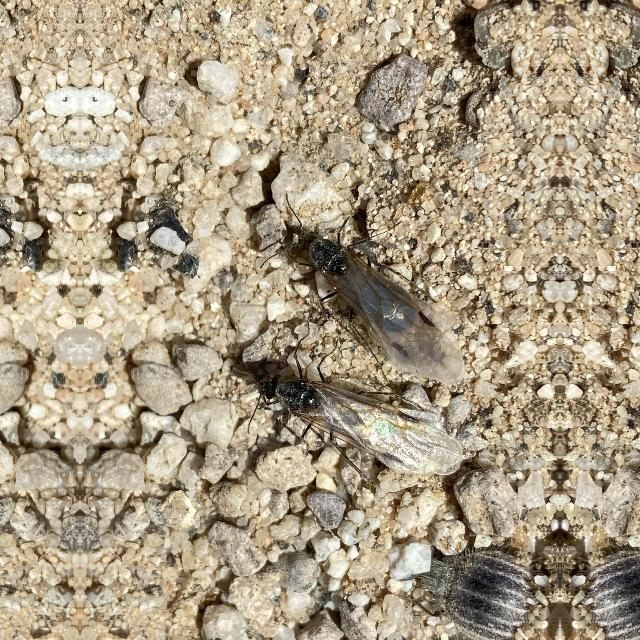Messor: (284, 212, 464, 386), (257, 354, 468, 498)
